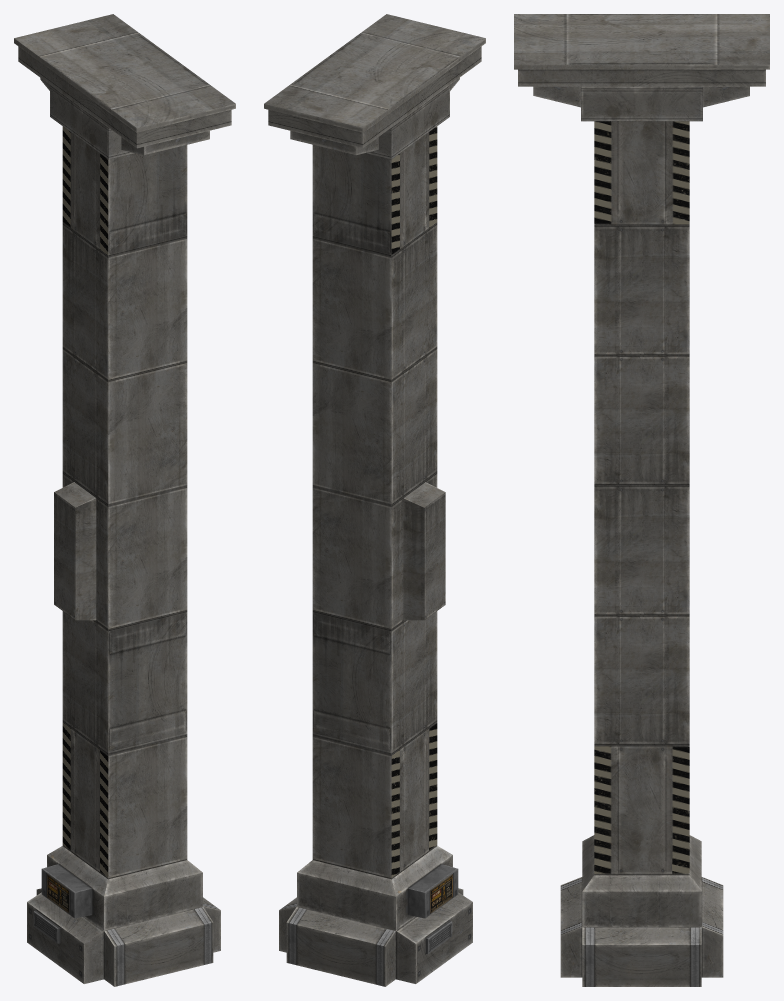
Rendered from CP_Metro_Colon_01.fbx.
The picture shows the model from 3 angles, left to right: view 1: azimuth 30°, elevation 25°; view 2: azimuth 150°, elevation 25°; view 3: azimuth 270°, elevation 25°; orthographic projection. The views are drawn at different scales.
Visible parts, largest first — view 1: CP_Metro_Colon_01; view 2: CP_Metro_Colon_01; view 3: CP_Metro_Colon_01.
Boxes of the visible parts, bbox=[...] form: CP_Metro_Colon_01: bbox=[14, 14, 235, 986]; CP_Metro_Colon_01: bbox=[264, 14, 485, 986]; CP_Metro_Colon_01: bbox=[514, 14, 769, 986].
Bounding box in the file's own units: 235 × 1405 × 357.
